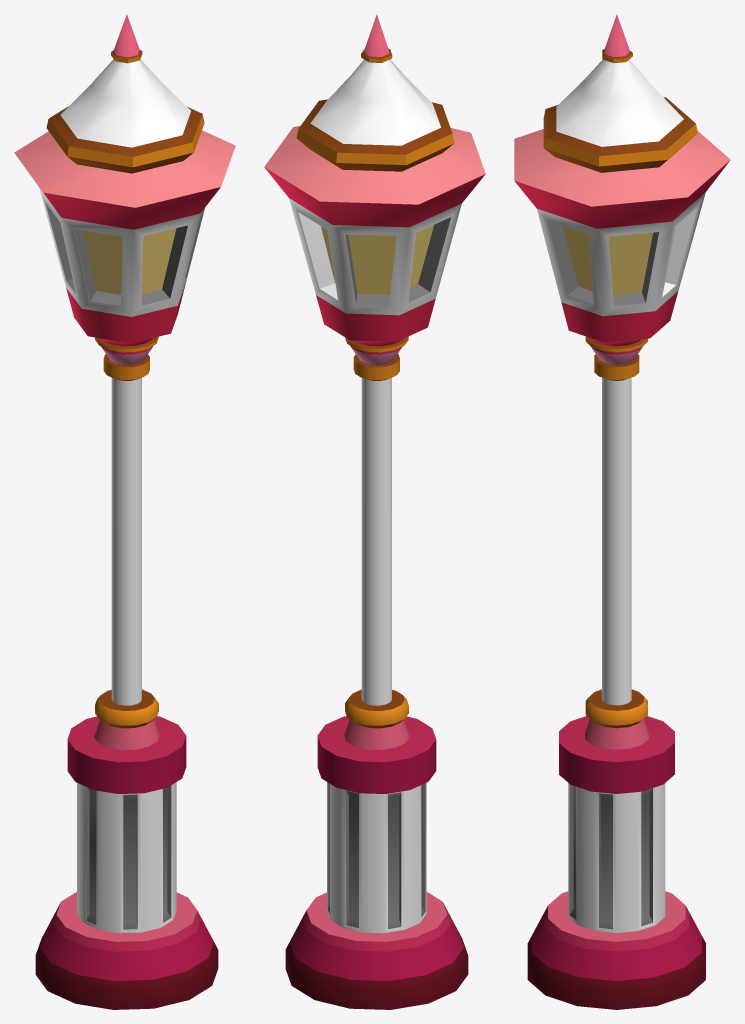
The model's file is Garodeng.fbx.
3 views of the same model, side by side, from view 1: azimuth 30°, elevation 25°; view 2: azimuth 150°, elevation 25°; view 3: azimuth 270°, elevation 25° (orthographic).
Parts seen in each view (by area): view 1: Garodeng; view 2: Garodeng; view 3: Garodeng.
Part boxes in pixels (left/top/right/bottom): Garodeng: left=14, top=14, right=235, bottom=1009; Garodeng: left=264, top=14, right=485, bottom=1009; Garodeng: left=514, top=14, right=730, bottom=1009.
Size of the model in its own units: 0.2774 by 1.32 by 0.2704.
